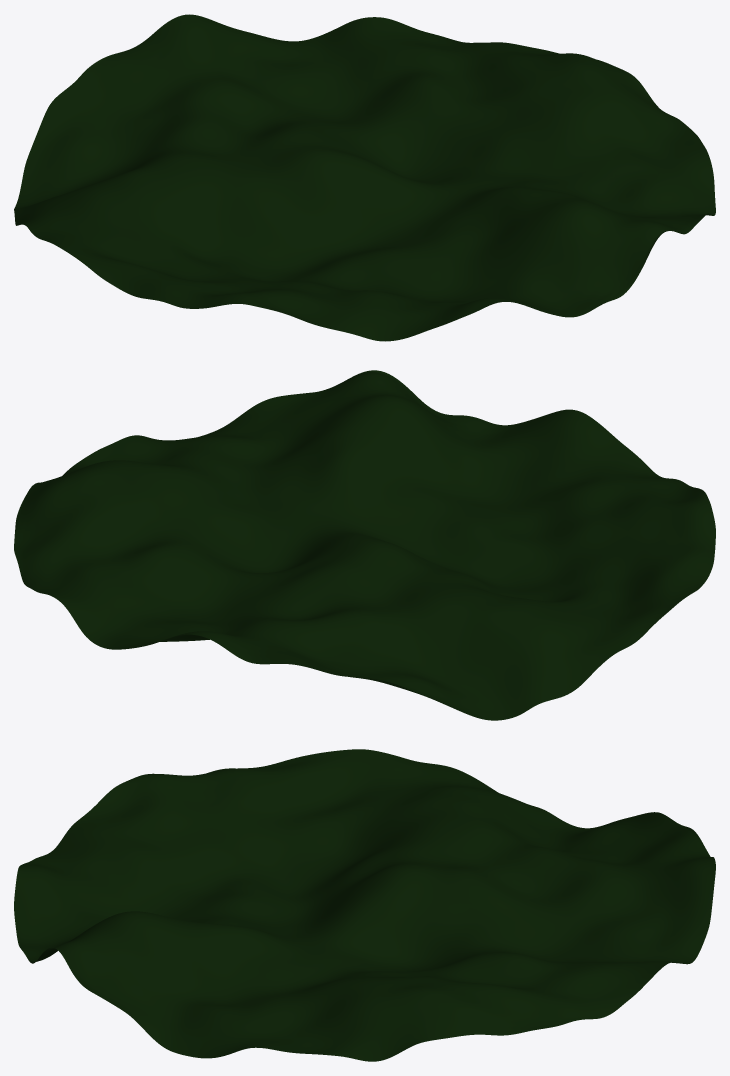
File: Liquid.fbx
The picture shows the model from 3 angles, top to bottom: view 1: azimuth 30°, elevation 25°; view 2: azimuth 150°, elevation 25°; view 3: azimuth 270°, elevation 25°; orthographic projection.
Visible parts, largest first — view 1: Liquid; view 2: Liquid; view 3: Liquid.
Boxes of the visible parts, <box> form: Liquid: <box>14,14,715,341</box>; Liquid: <box>14,370,715,720</box>; Liquid: <box>14,749,715,1061</box>.
Size of the model in its own units: 118 by 14.55 by 118.
